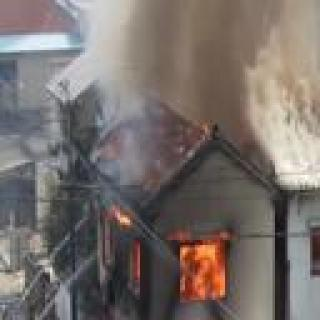fire: (79, 188, 294, 320), (318, 217, 320, 275)
